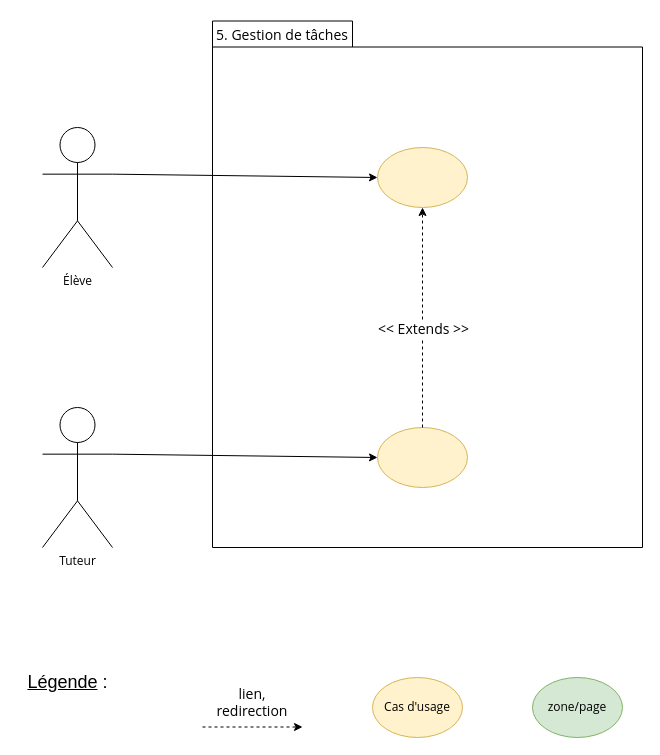
Image size: 660x755. Some labels were removed from this diagram. The centre of each missing label's shape, as x and y in pixels:
Créer une tâche: point 422,177
Spécifier élève: point 422,457
